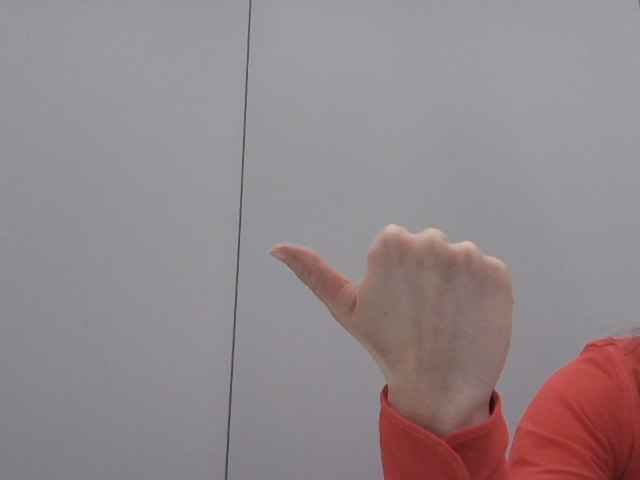right: (256, 215, 532, 455)
